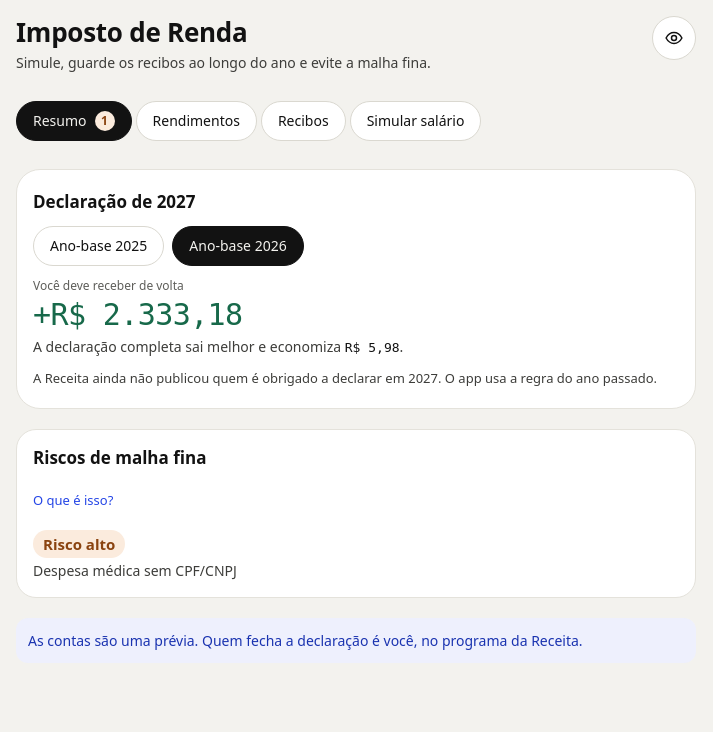
Imposto de Renda › simulador mensal mostra o redutor
Click the tab "Simular salário" at (416, 121), box x1=350 y1=101 x2=481 y2=141
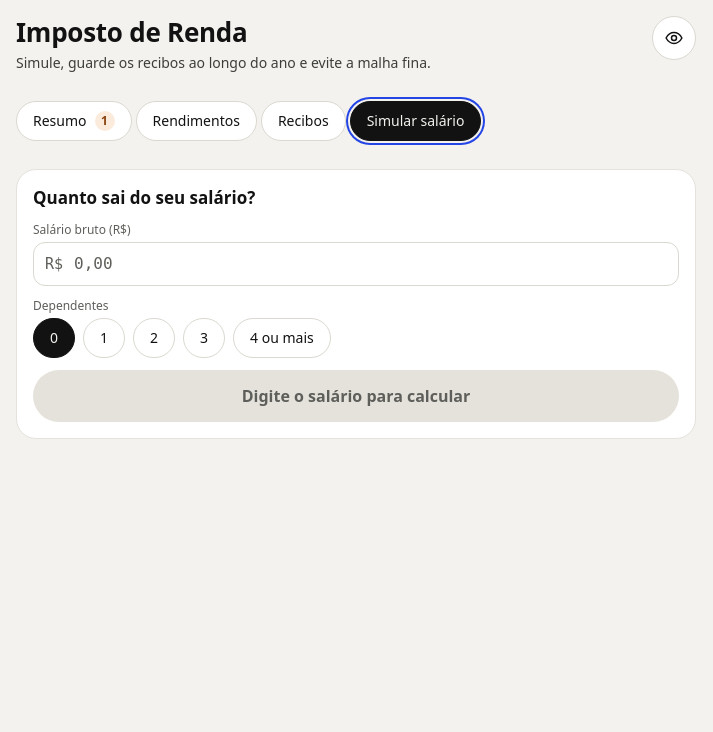
Expected: the button "Digite o salário para calcular" is disabled, x1=33 y1=370 x2=679 y2=422
Type "6.000" into the field labelled "Salário bruto (R$)" at (356, 264), box x1=33 y1=242 x2=679 y2=286
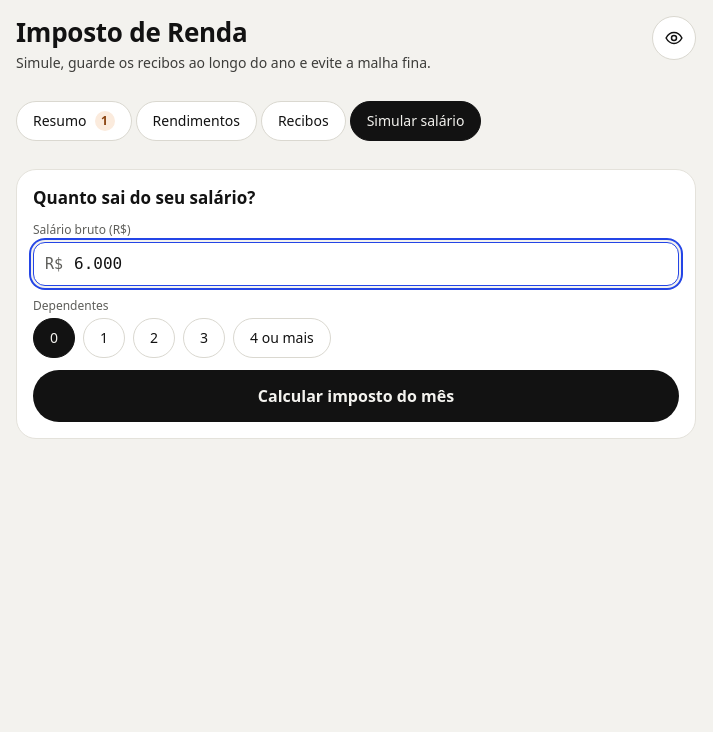
Click the button "Calcular imposto do mês" at (356, 396), box x1=33 y1=370 x2=679 y2=422
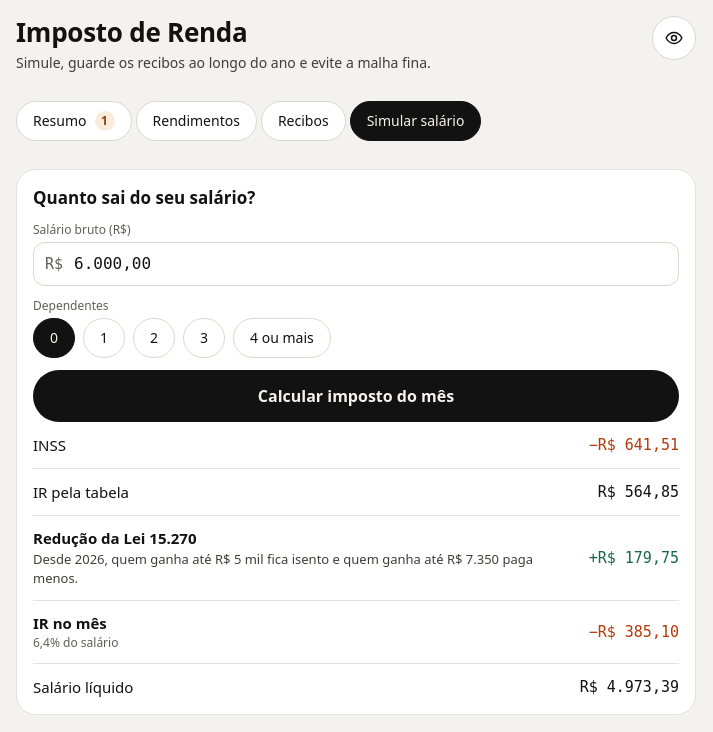
Expected: the text "−R$ 385,10" is shown, x1=589 y1=622 x2=679 y2=642
